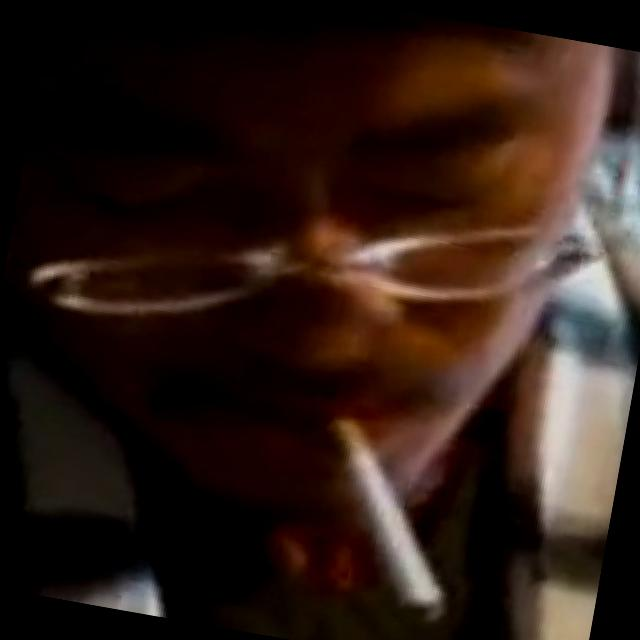smoke: (284, 392, 482, 628)
